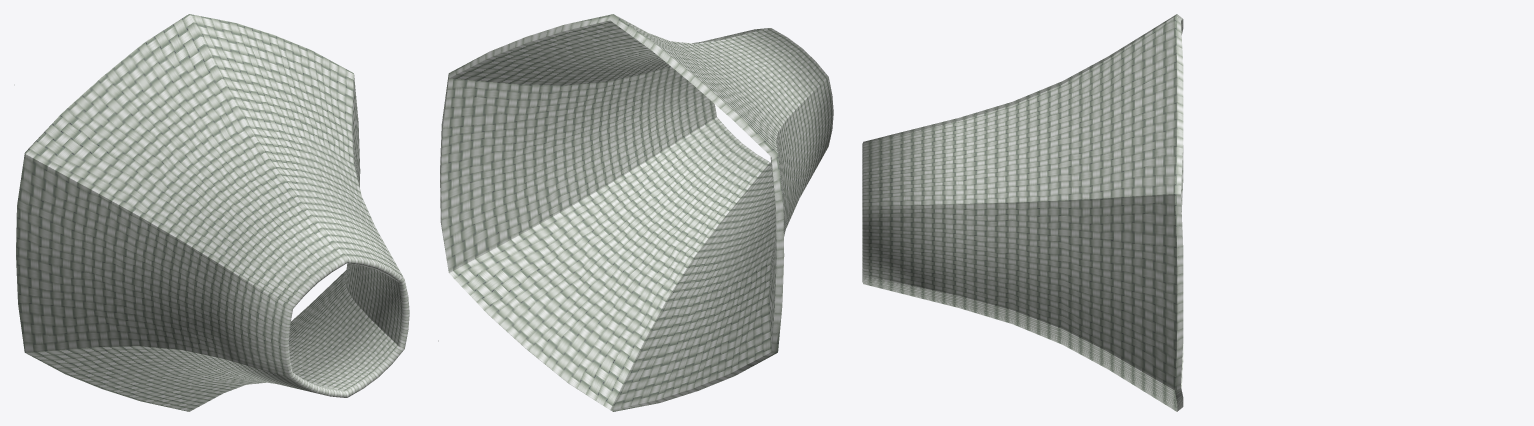
The model's file is MeshDeskLamp_8_0_GeomSubset_2.obj.
3 views of the same model, side by side, from view 1: azimuth 30°, elevation 25°; view 2: azimuth 150°, elevation 25°; view 3: azimuth 270°, elevation 25° (orthographic).
Parts seen in each view (by area): view 1: MeshDeskLamp_8_0_GeomSubset_2; view 2: MeshDeskLamp_8_0_GeomSubset_2; view 3: MeshDeskLamp_8_0_GeomSubset_2.
Part boxes in pixels (x1,y1,x2,y2): MeshDeskLamp_8_0_GeomSubset_2: [14, 14, 409, 411]; MeshDeskLamp_8_0_GeomSubset_2: [438, 14, 833, 411]; MeshDeskLamp_8_0_GeomSubset_2: [862, 14, 1183, 411].
Bounding box in the file's own units: 0.3146 × 0.3475 × 0.5273.
